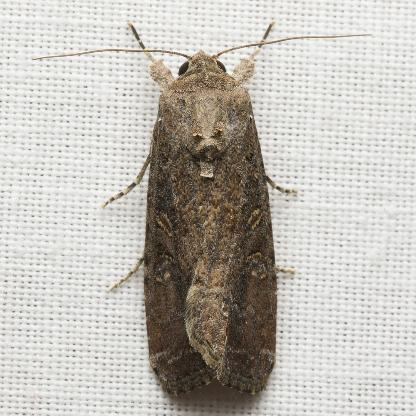Fall Armyworm Moth: (28, 19, 376, 400)
